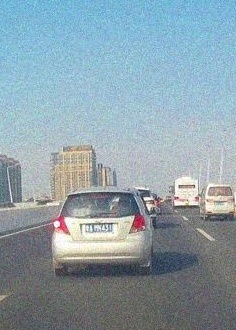L_light: (53, 216, 71, 235), (174, 196, 179, 200), (206, 199, 212, 202)
R_light: (129, 215, 146, 234), (229, 199, 234, 202), (195, 197, 199, 200)
T_light: (94, 192, 108, 195), (217, 187, 222, 188), (184, 180, 188, 181)
day-left: (52, 186, 152, 275)
day-no: (205, 184, 235, 220), (174, 177, 199, 208)
